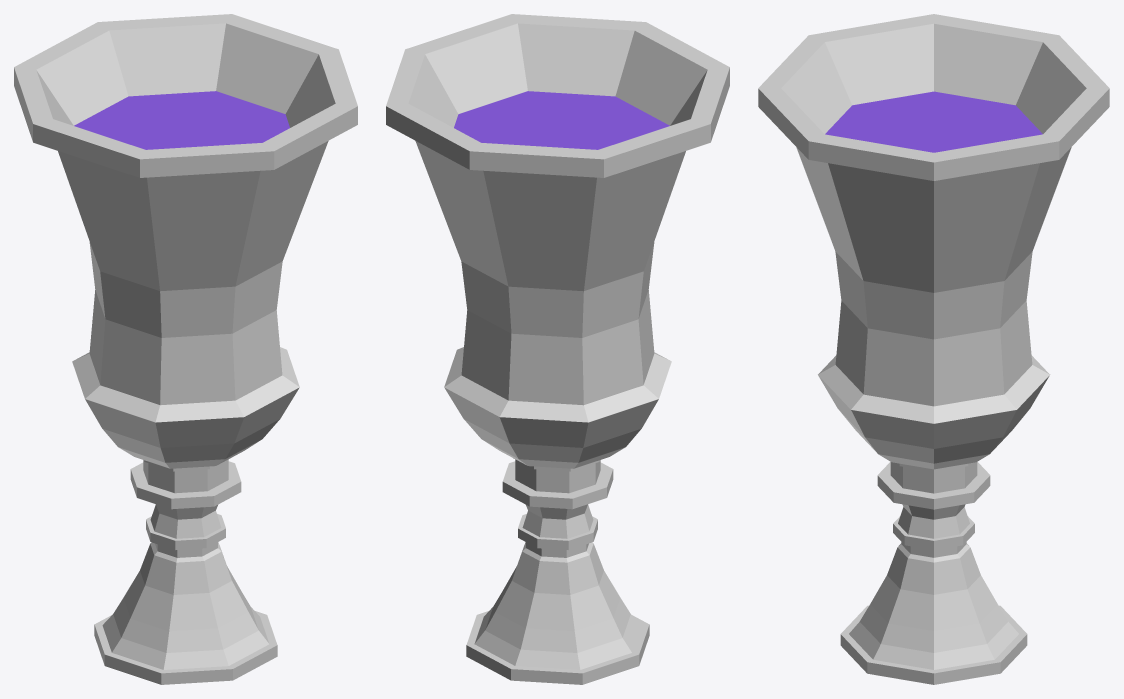
Rendered from vaso.fbx.
3 renders of one model, left to right at view 1: azimuth 30°, elevation 25°; view 2: azimuth 150°, elevation 25°; view 3: azimuth 270°, elevation 25°, orthographic.
Parts seen in each view (by area): view 1: vaso; view 2: vaso; view 3: vaso.
Part boxes in pixels (bbox=[...]): vaso: bbox=[14, 14, 357, 684]; vaso: bbox=[386, 14, 729, 684]; vaso: bbox=[758, 14, 1109, 684].
Bounding box in the file's own units: 0.5317 × 0.93 × 0.5317.
